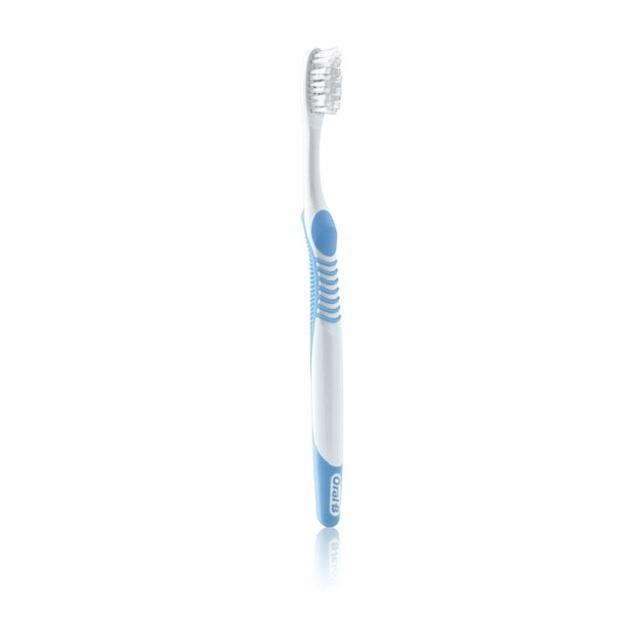toothbrush: (266, 31, 386, 581)
